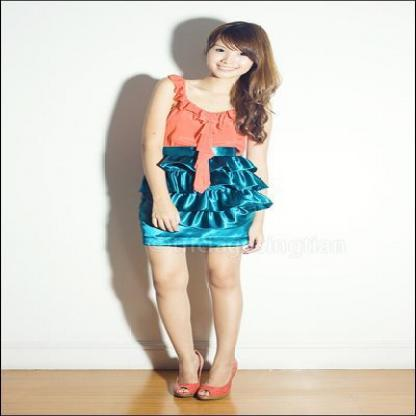shirt: (162, 70, 253, 193)
shoe: (169, 374, 230, 401)
skirt: (138, 133, 272, 247)
